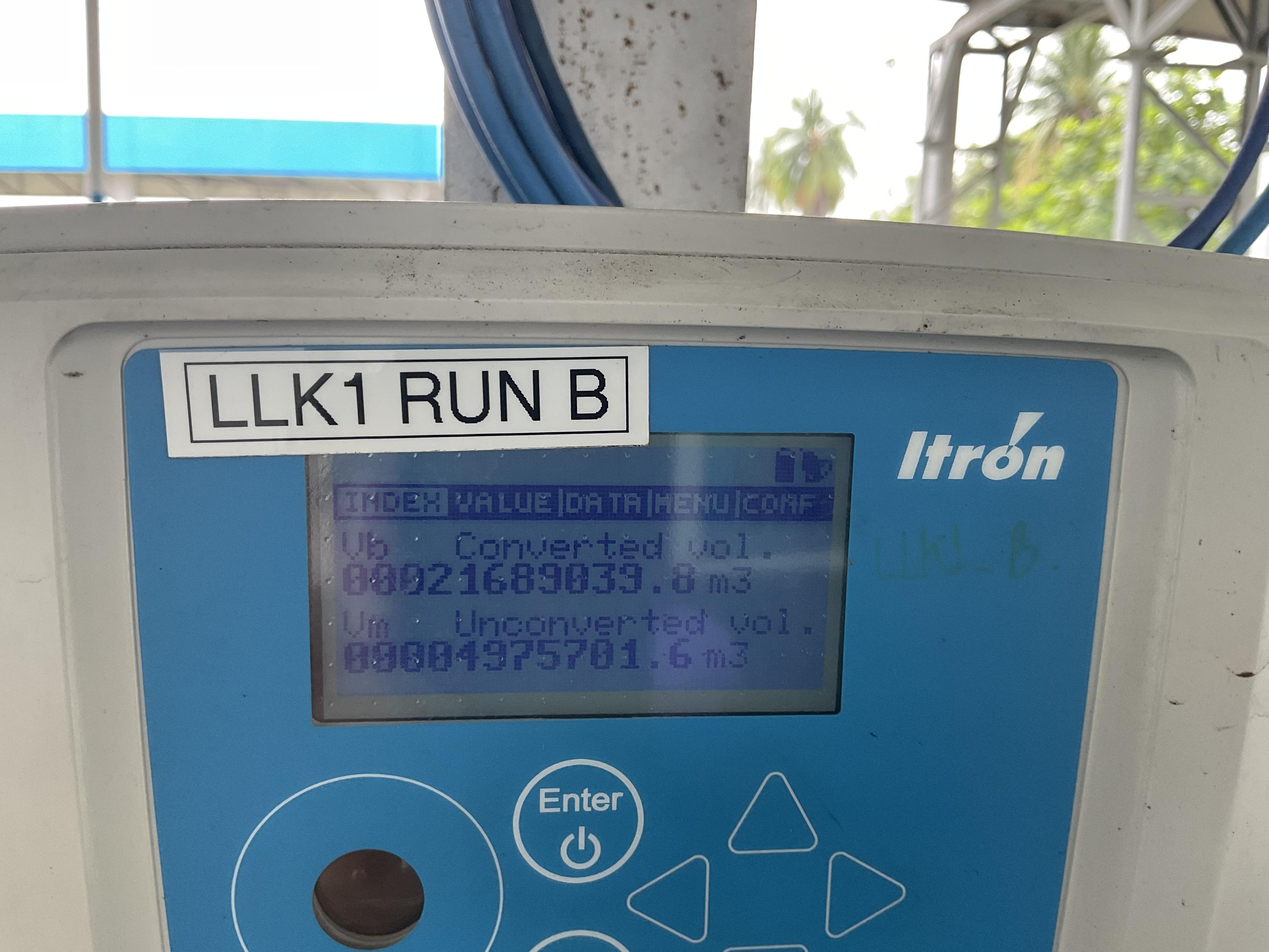digital_screen: (306, 430, 855, 726)
